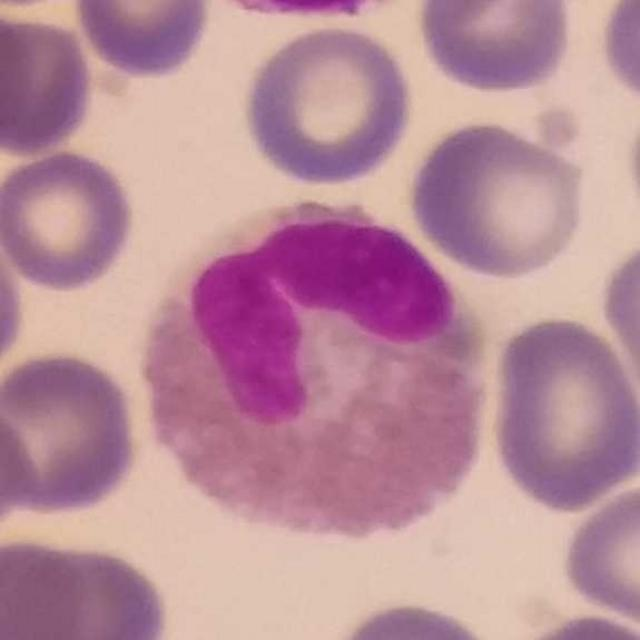Eosinophil: (128, 186, 496, 548), (213, 0, 402, 35)
Platelets: (526, 95, 591, 163)
RBC: (484, 310, 640, 516), (405, 115, 592, 282), (237, 20, 419, 189), (0, 344, 146, 522), (0, 146, 140, 294), (2, 531, 176, 640), (412, 0, 579, 98), (0, 16, 99, 169), (556, 477, 640, 632), (70, 0, 214, 81), (318, 595, 511, 640), (596, 231, 640, 420), (0, 390, 40, 553), (594, 0, 640, 114), (0, 212, 29, 390), (505, 609, 640, 640)
